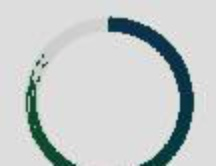ProgressBar: (1, 1, 215, 165)
